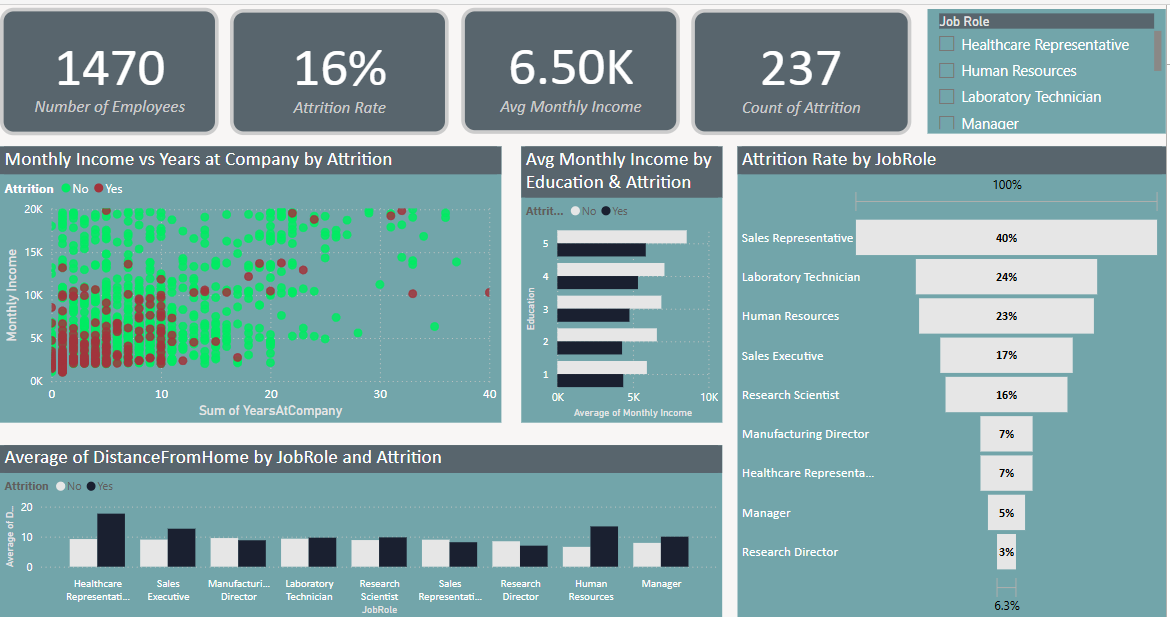

Layout of this report page (visuals, bound fields, positions):
{"tool":"powerbi","page":{"name":"Dashboard","canvas":[1280,720],"ordinal":0},"visuals":[{"type":"card","fields":{"Values":["Updated-HR-Employee-Attrition.Number of Employees"]},"box":[0,48.6,240,139.8],"z":0},{"type":"card","fields":{"Values":["Updated-HR-Employee-Attrition.Attrition Rate"]},"box":[252.5,50,240,138.3],"z":1000},{"type":"card","fields":{"Values":["Updated-HR-Employee-Attrition.Avg Monthly Income"]},"box":[505.9,48.6,240,138.3],"z":2000},{"type":"clusteredBarChart","title":"Avg Monthly Income  by Education & Attrition","fields":{"Category":["Updated-HR-Employee-Attrition.Education"],"Y":["Avg(Updated-HR-Employee-Attrition.Monthly Income)"],"Series":["Updated-HR-Employee-Attrition.Attrition"]},"box":[572.5,200.1,220.7,303.2],"z":3000},{"type":"funnel","title":"Attrition Rate by JobRole","fields":{"Category":["Updated-HR-Employee-Attrition.JobRole"],"Y":["Updated-HR-Employee-Attrition.Attrition Rate"]},"box":[809.4,200.1,470.9,519.5],"z":4000},{"type":"clusteredColumnChart","fields":{"Category":["Updated-HR-Employee-Attrition.JobRole"],"Series":["Updated-HR-Employee-Attrition.Attrition"],"Y":["Avg(Updated-HR-Employee-Attrition.DistanceFromHome)"]},"box":[0,528.3,793.2,191.3],"z":5000},{"type":"scatterChart","title":"Monthly Income vs Years at Company by Attrition","fields":{"Series":["Updated-HR-Employee-Attrition.Attrition"],"X":["Sum(Updated-HR-Employee-Attrition.YearsAtCompany)"],"Y":["Updated-HR-Employee-Attrition.Monthly Income"]},"box":[0,200.1,550.4,303.2],"z":6000},{"type":"slicer","fields":{"Values":["Updated-HR-Employee-Attrition.JobRole"]},"box":[1018.4,50,261.9,136.9],"z":7000},{"type":"card","fields":{"Values":["CountNonNull(Updated-HR-Employee-Attrition.Attrition)"]},"box":[759.3,50,241.3,138.3],"z":8000}]}

Visuals, with their boxes in screenshot pixels (x1, y1, x2, y2):
card - Updated-HR-Employee-Attrition.Number of Employees: 0,5,215,132
card - Updated-HR-Employee-Attrition.Attrition Rate: 227,6,445,132
card - Updated-HR-Employee-Attrition.Avg Monthly Income: 458,5,676,131
"Avg Monthly Income  by Education & Attrition" clusteredBarChart: 518,143,719,419
"Attrition Rate by JobRole" funnel: 734,143,1163,616
clusteredColumnChart - Updated-HR-Employee-Attrition.JobRole x Updated-HR-Employee-Attrition.Attrition: 0,441,719,616
"Monthly Income vs Years at Company by Attrition" scatterChart: 0,143,498,419
slicer - Updated-HR-Employee-Attrition.JobRole: 924,6,1163,131
card - CountNonNull(Updated-HR-Employee-Attrition.Attrition): 688,6,908,132
